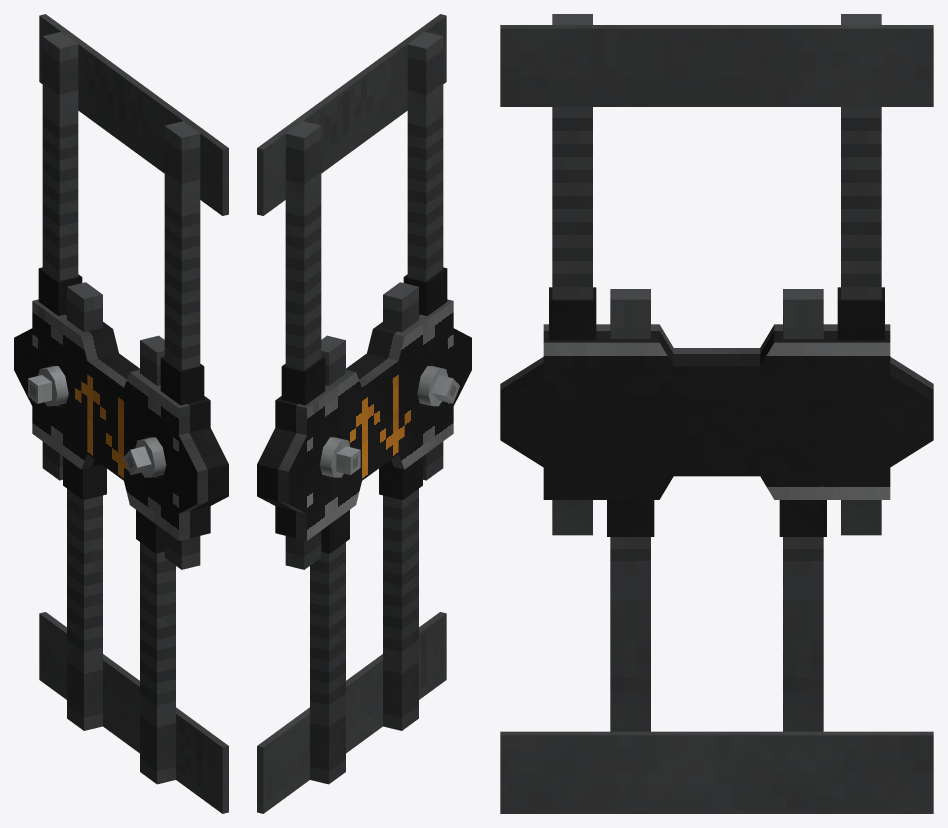
File: door_blocker.obj
The picture shows the model from 3 angles, left to right: view 1: azimuth 30°, elevation 25°; view 2: azimuth 150°, elevation 25°; view 3: azimuth 270°, elevation 25°; orthographic projection. The views are drawn at different scales.
Visible parts, largest first — view 1: Cube.003, Cube.002, Circle; view 2: Cube.003, Cube.002, Circle; view 3: Cube.003, Cube.002.
Boxes of the visible parts, x1,y1,x2,y2 form: Cube.003: (39, 14, 228, 813); Cube.002: (14, 267, 228, 553); Circle: (28, 366, 166, 477); Cube.003: (257, 14, 446, 813); Cube.002: (257, 267, 471, 553); Circle: (319, 366, 459, 477); Cube.003: (500, 14, 933, 813); Cube.002: (500, 287, 933, 536).
Size of the model in its own units: 0.1756 by 2 by 1.
